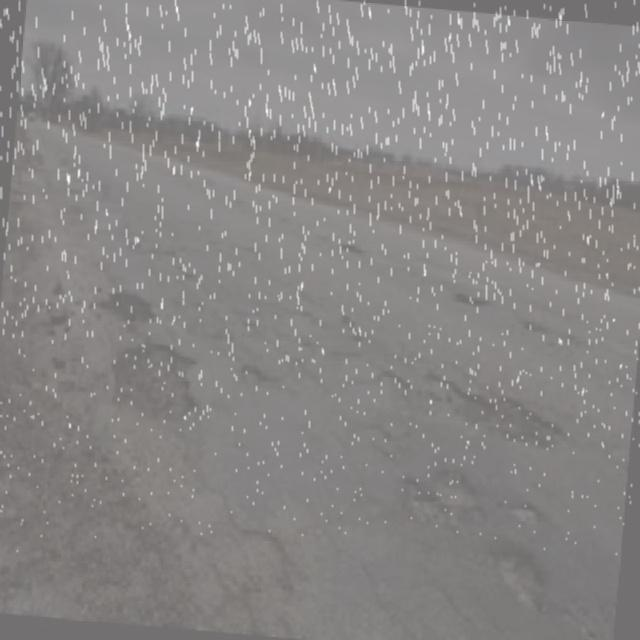Pothole: (75, 280, 284, 487), (182, 497, 342, 626), (399, 358, 559, 448), (493, 520, 578, 640), (407, 464, 476, 544), (523, 314, 584, 370), (334, 235, 386, 270), (457, 295, 507, 318)
